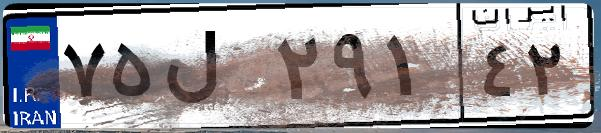1: (385, 28, 445, 110)
2: (270, 28, 330, 110), (525, 38, 570, 115)
4: (475, 38, 525, 113)
5: (110, 28, 158, 98)
7: (57, 26, 110, 100)
9: (330, 28, 385, 110)
ل: (158, 20, 270, 120)
